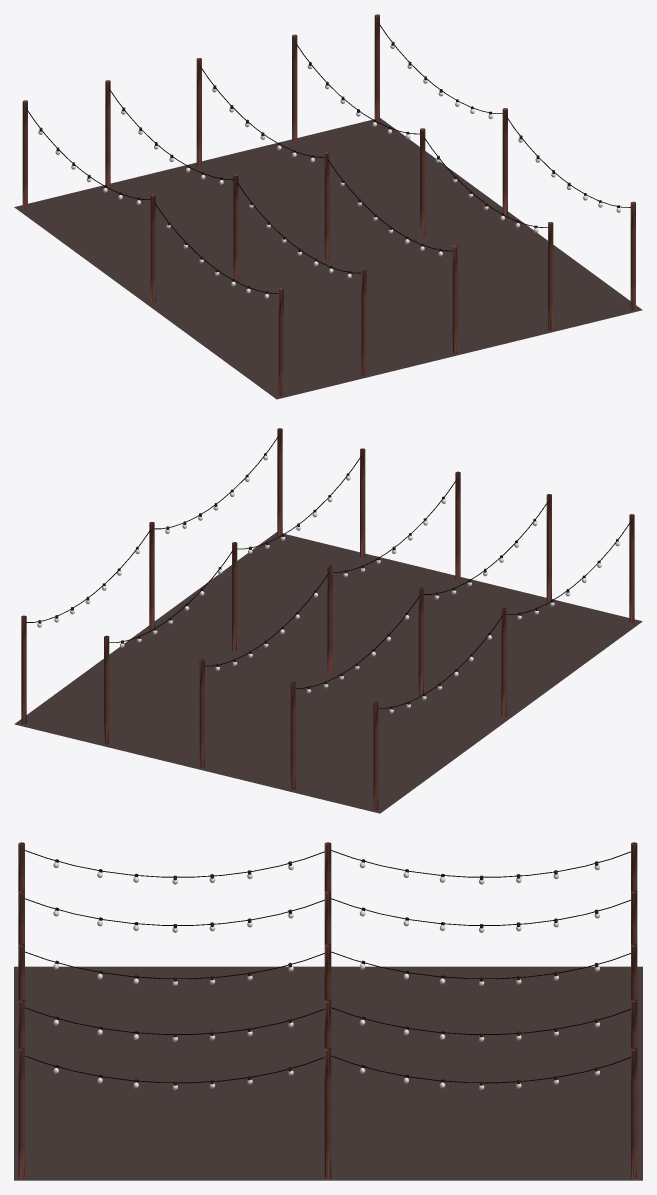
Rendered from prizearea.fbx.
3 renders of one model, top to bottom at view 1: azimuth 30°, elevation 25°; view 2: azimuth 150°, elevation 25°; view 3: azimuth 270°, elevation 25°, orthographic. The views are drawn at different scales.
Visible parts, largest first — view 1: Post_5.001; view 2: Post_5.001; view 3: Post_5.001.
Part boxes in pixels (x1=…): Post_5.001: x1=14, y1=14, x2=642, y2=399; Post_5.001: x1=14, y1=428, x2=642, y2=813; Post_5.001: x1=14, y1=842, x2=642, y2=1180.
Size of the model in its own units: 7842 by 2188 by 9748.
